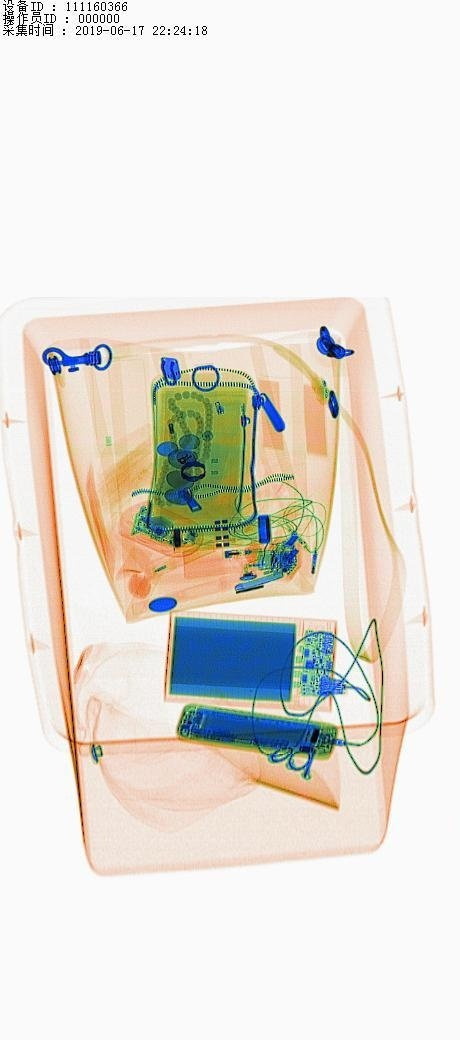NonmetallicFire: (183, 522, 301, 584)
